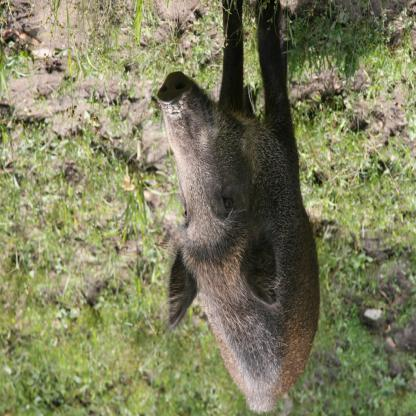boar: (155, 0, 321, 416)
